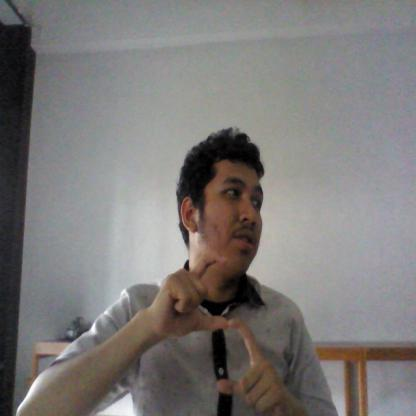S: (150, 251, 277, 416)
